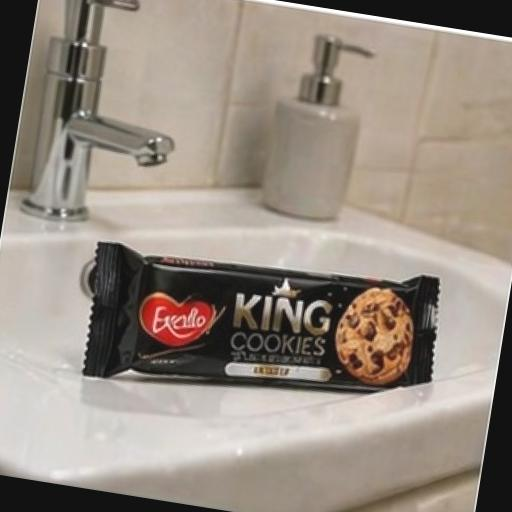king_cooking: (56, 203, 482, 452)
